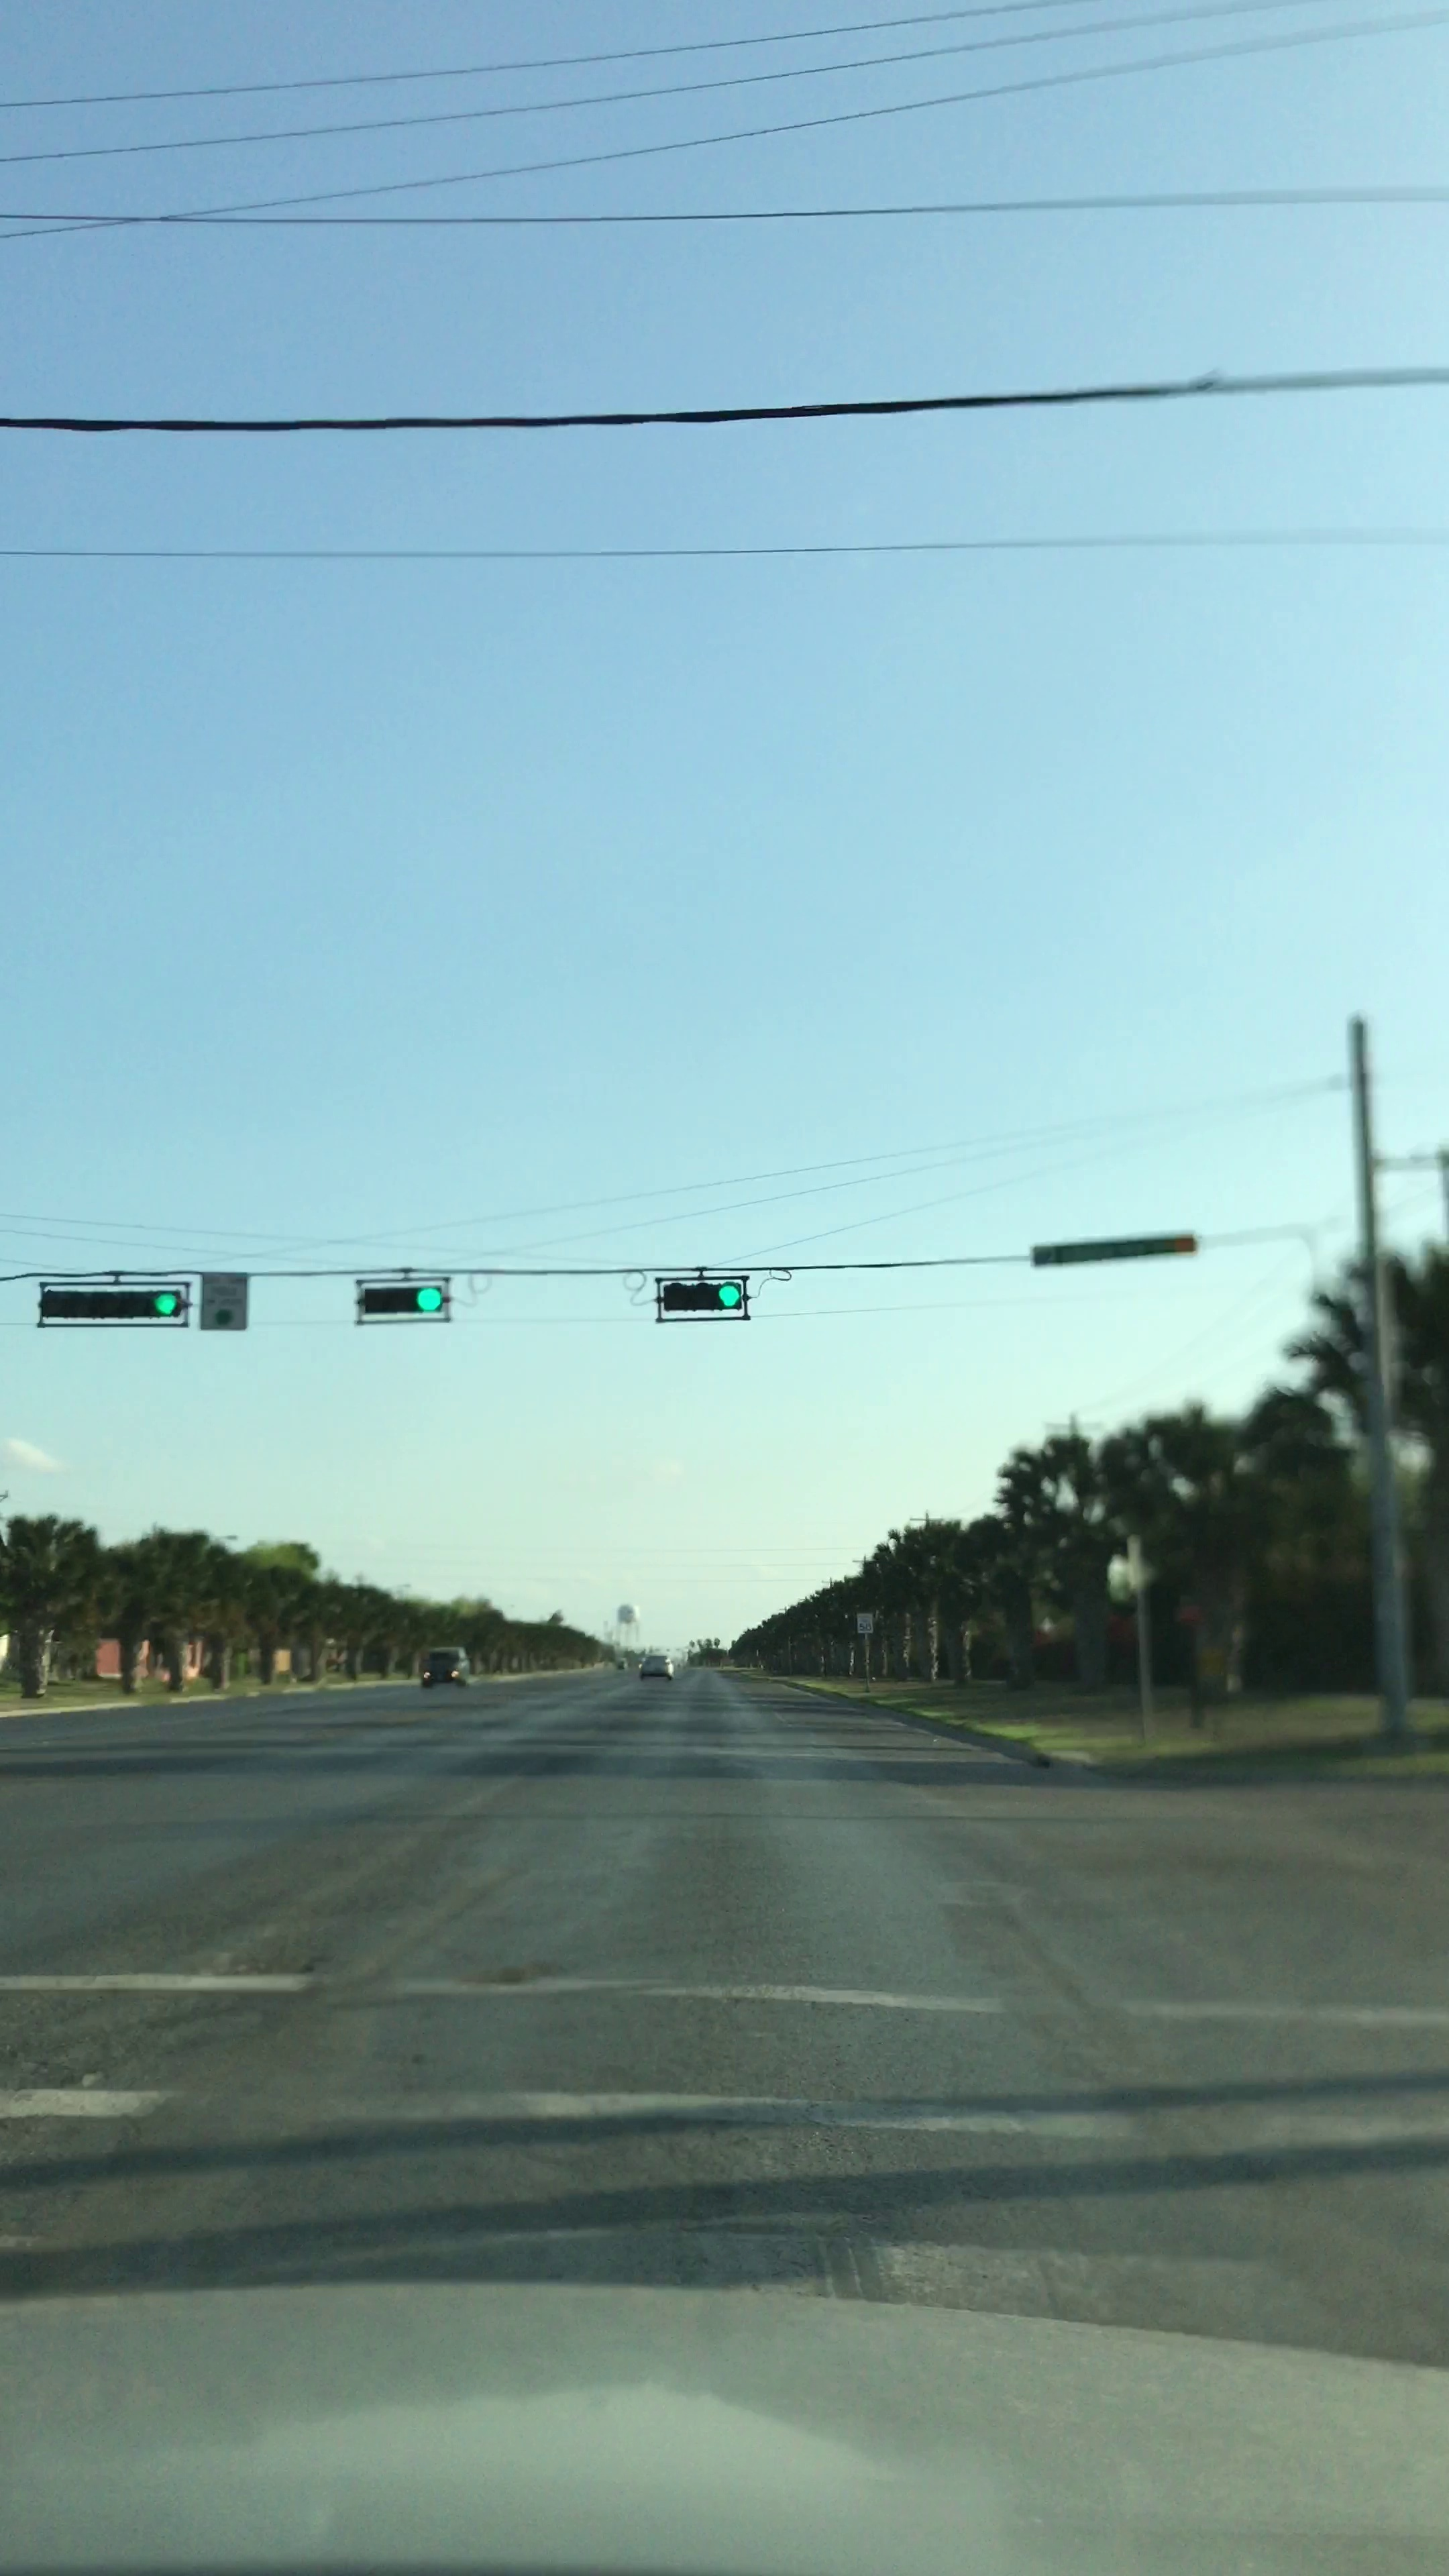blurredLine: (23, 1951, 1322, 2296)
